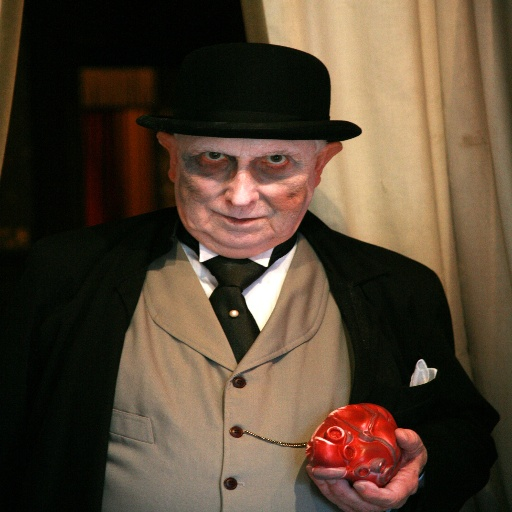hand: (302, 427, 427, 511)
